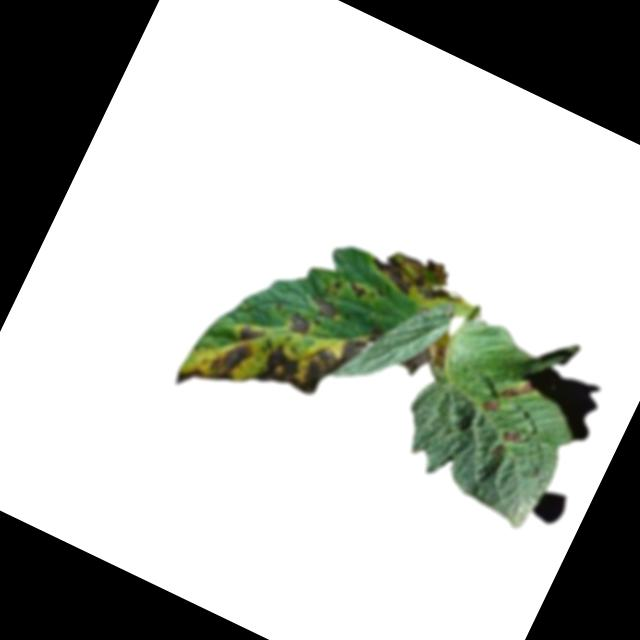Early_blight: (172, 265, 377, 456), (362, 235, 456, 312), (394, 331, 452, 390), (500, 375, 535, 409), (306, 291, 340, 323), (284, 308, 316, 338), (341, 277, 368, 304), (477, 394, 504, 419), (499, 428, 524, 451)
